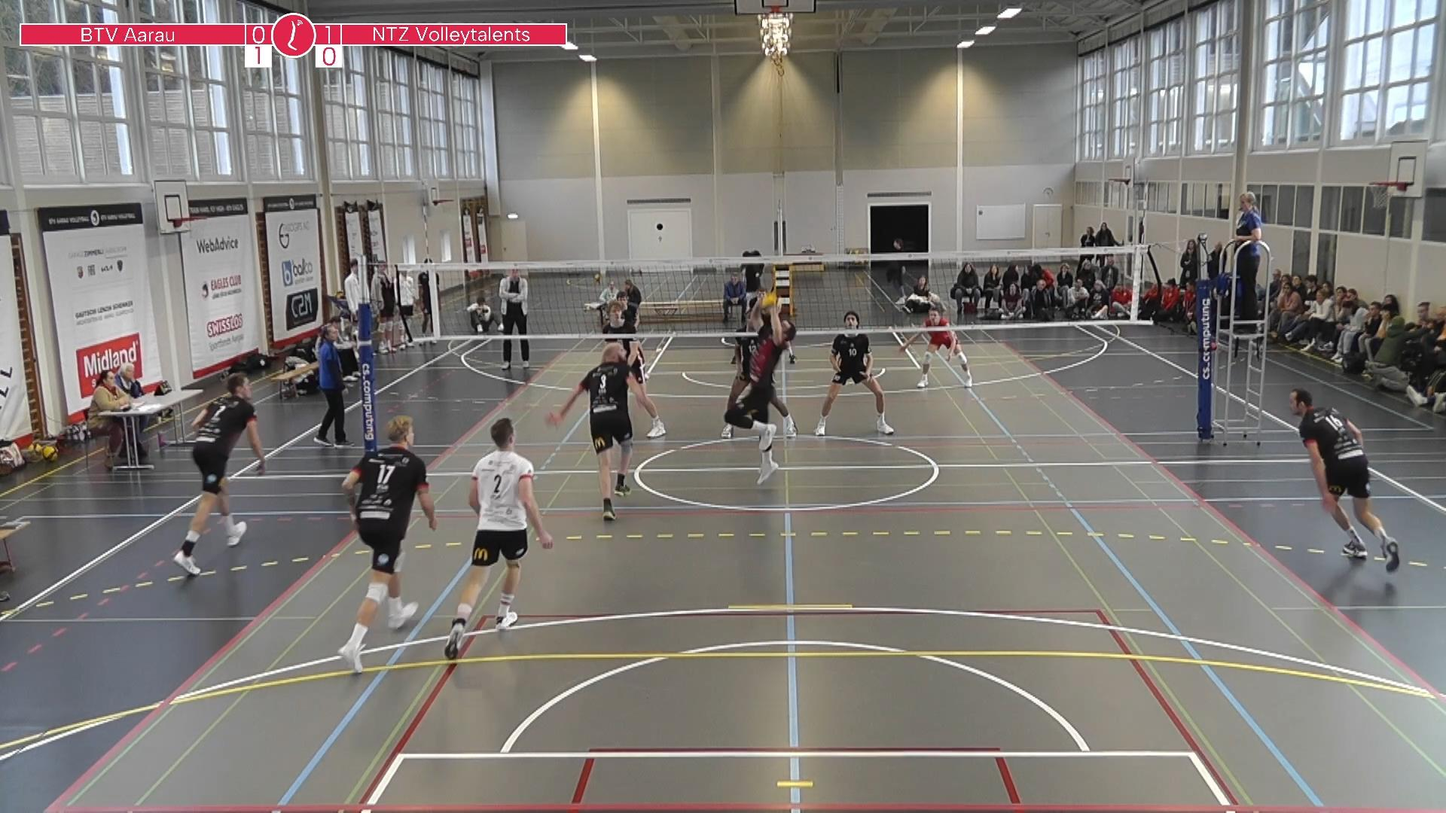Player: (444, 419, 552, 659), (338, 416, 436, 673), (1290, 388, 1399, 571), (548, 343, 655, 519), (173, 374, 264, 575), (814, 310, 893, 436), (899, 307, 972, 388), (602, 302, 645, 391), (728, 299, 764, 404)
Set: (724, 295, 805, 489)
ball: (748, 289, 782, 313)
